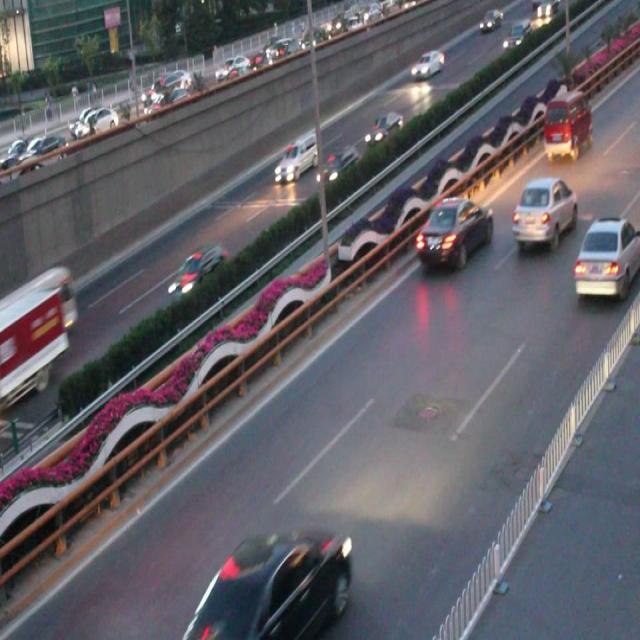bus: (1, 290, 67, 401)
car: (184, 524, 352, 640), (573, 217, 640, 300), (416, 194, 493, 266), (511, 175, 576, 248), (166, 244, 227, 296), (315, 145, 358, 186), (363, 109, 404, 148), (410, 48, 444, 78)
truck: (1, 267, 78, 335), (540, 95, 590, 162), (272, 132, 318, 183)
